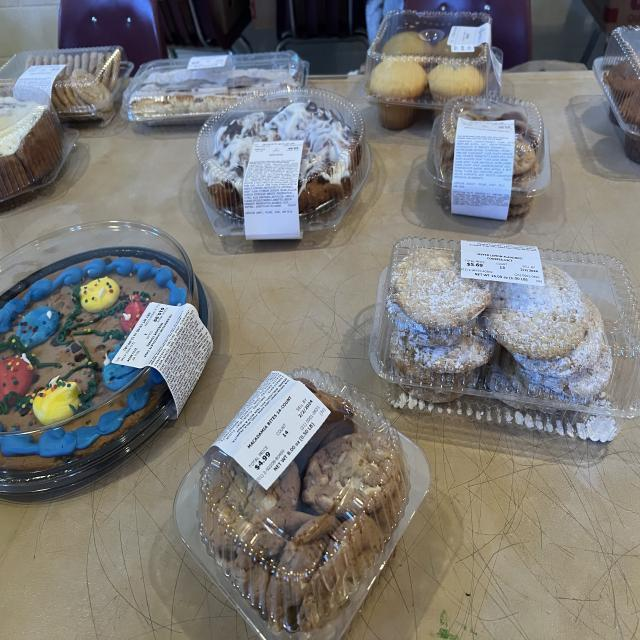Bread: (174, 368, 430, 638), (0, 222, 212, 502), (370, 237, 640, 442), (196, 87, 370, 238), (365, 10, 500, 128), (425, 97, 551, 220), (121, 52, 309, 128), (0, 45, 134, 127), (0, 97, 79, 202), (594, 25, 640, 163)
